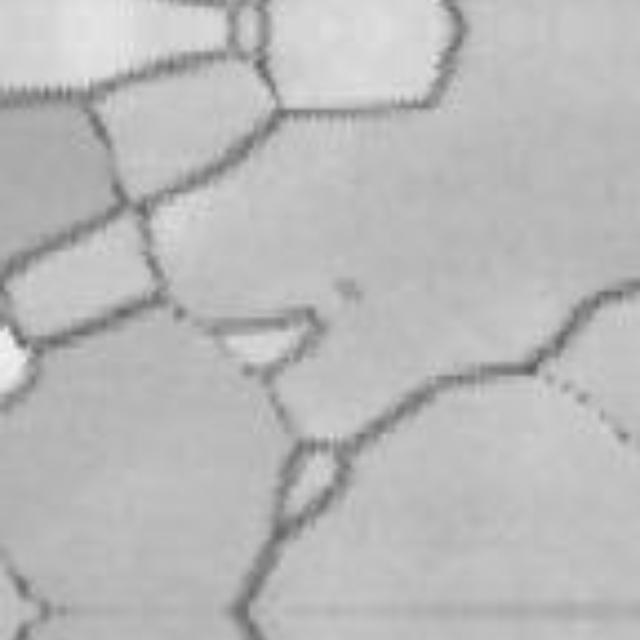good_void: (329, 279, 371, 306)
